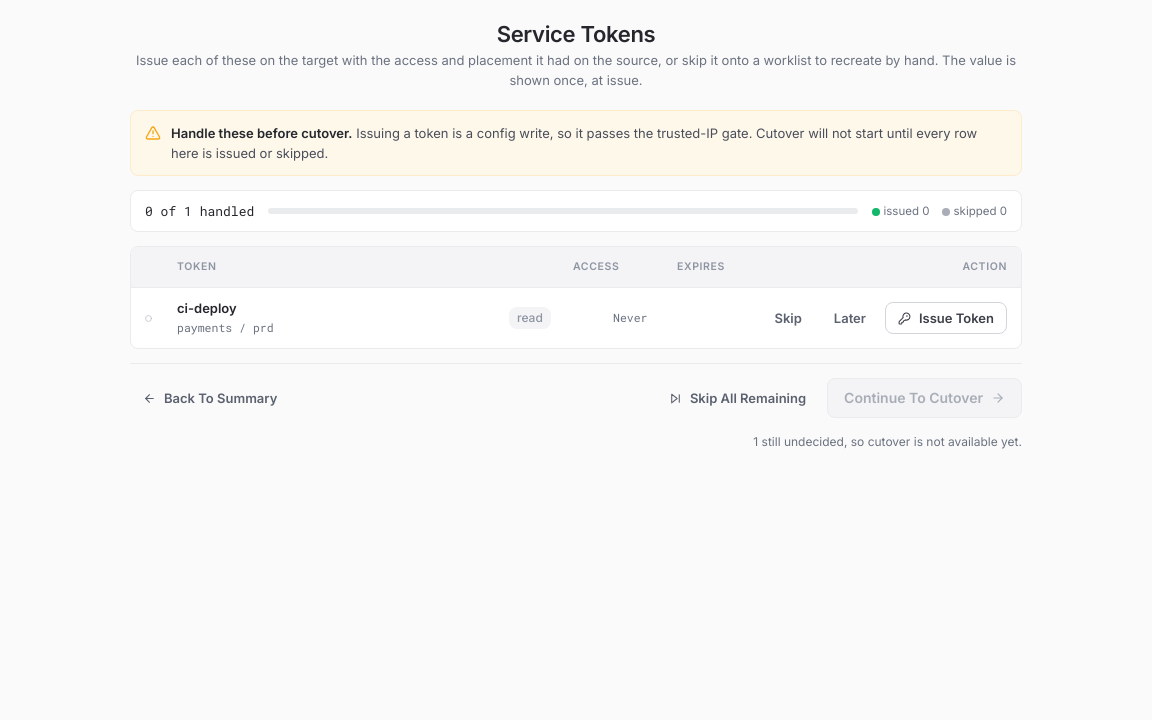
Test: ServiceTokenReportPage › issuing › will not let the only copy be dismissed by reflex
What coordinates should you click on to do the following:
click the button "Issue Token"
I would click on:
 (946, 318)
Its box is [885,302,1007,334].
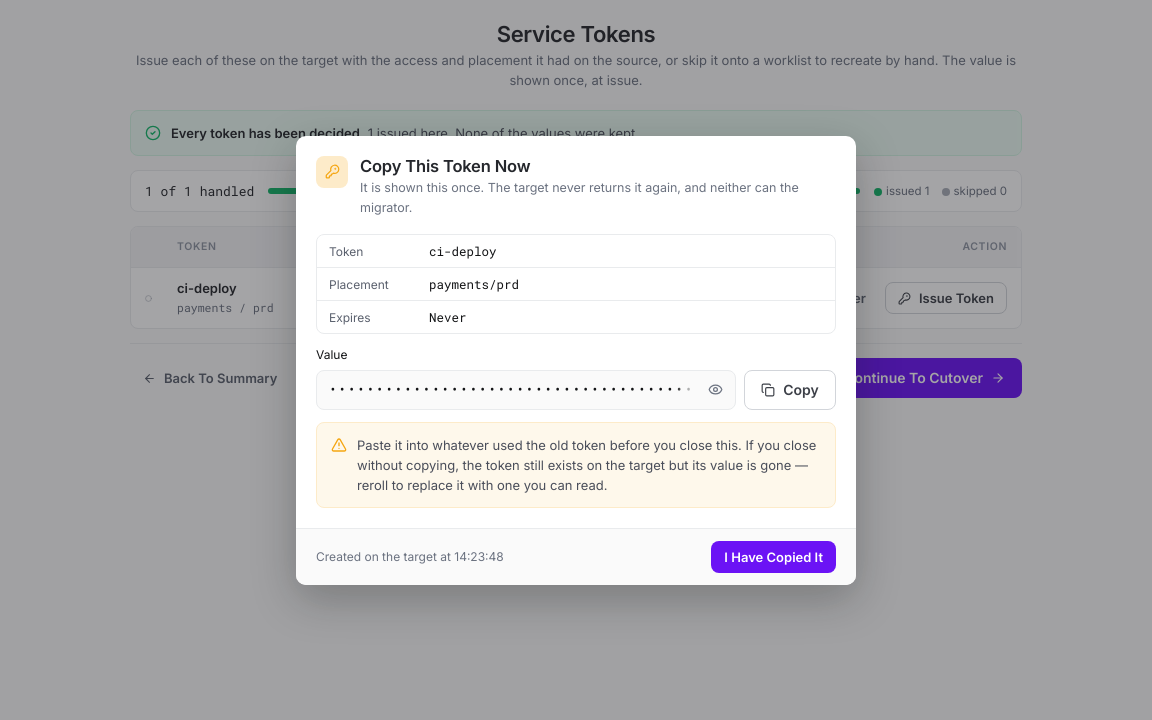
What coordinates should you click on to do the following:
click the button "I Have Copied It"
I would click on:
 (774, 556)
Its box is [711,540,836,572].
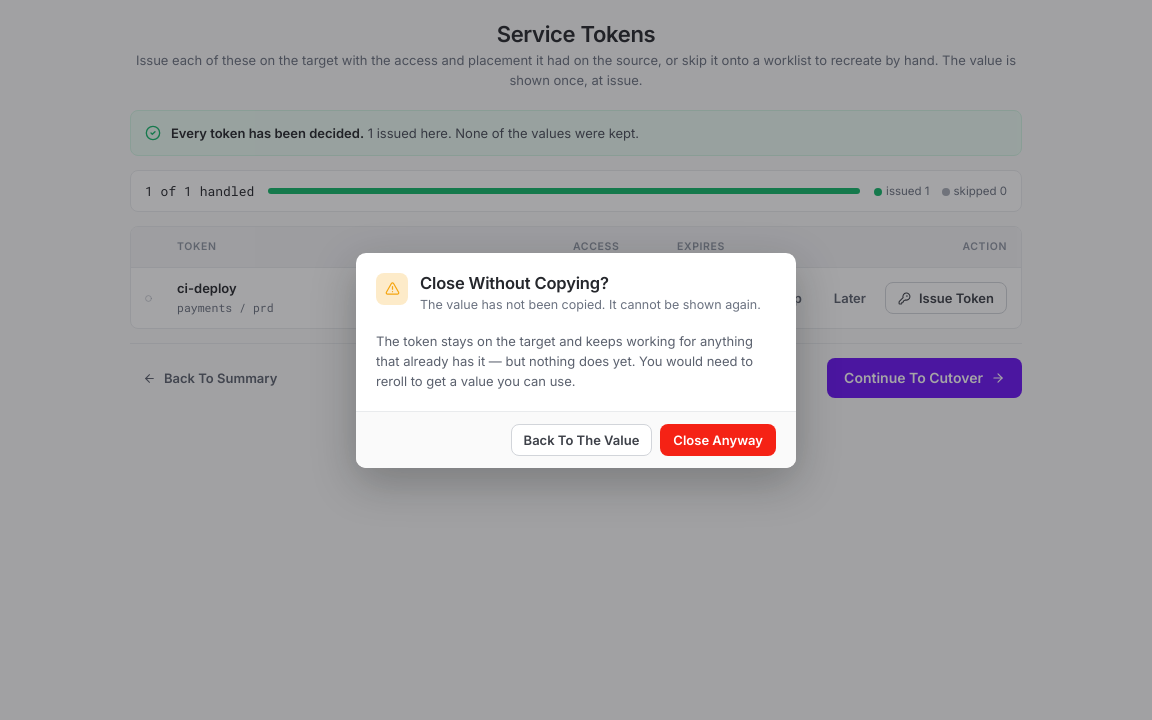
Check: the heading "Close Without Copying?" is shown, box [420,272,609,292]
Check: the button "Back To The Value" is shown, box [511,424,652,456]
